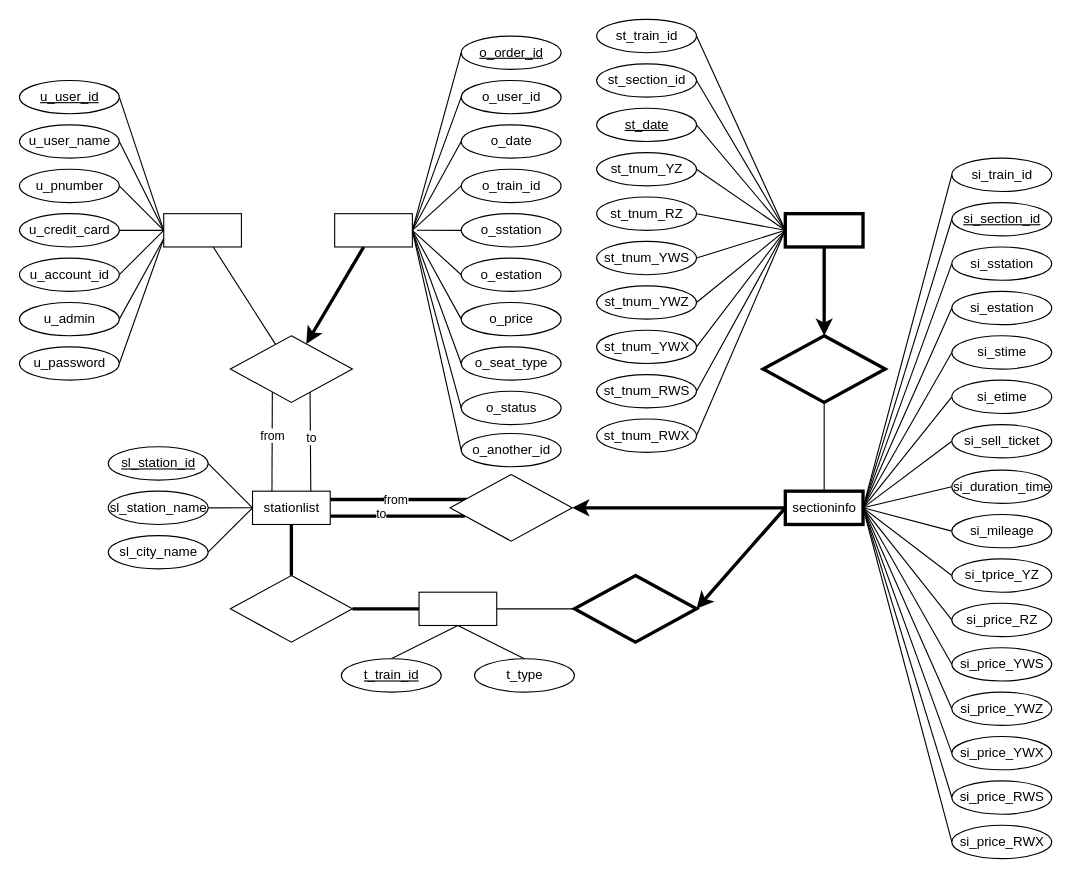
Image size: 1071x878. Some labels were removed from this diagram. Here are the shapes that lost their labels. From the top down, the centre of each, then its label:
At (x=202, y=230): "users".
At (x=373, y=230): "order".
At (x=823, y=229): "sectionticket".
At (x=290, y=368): "book".
At (x=823, y=368): "has ticket".
At (x=510, y=507): "section pass station".
At (x=290, y=608): "passstation".
At (x=457, y=608): "train".
At (x=635, y=608): "has section".
